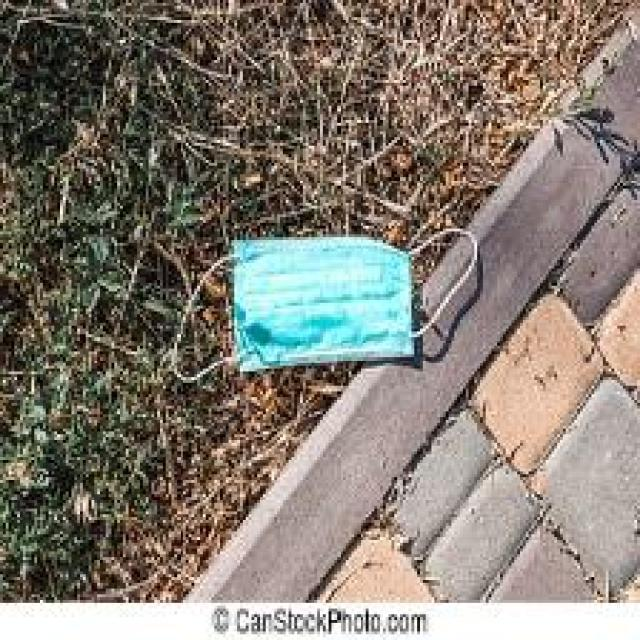Mask: (162, 199, 493, 404)
